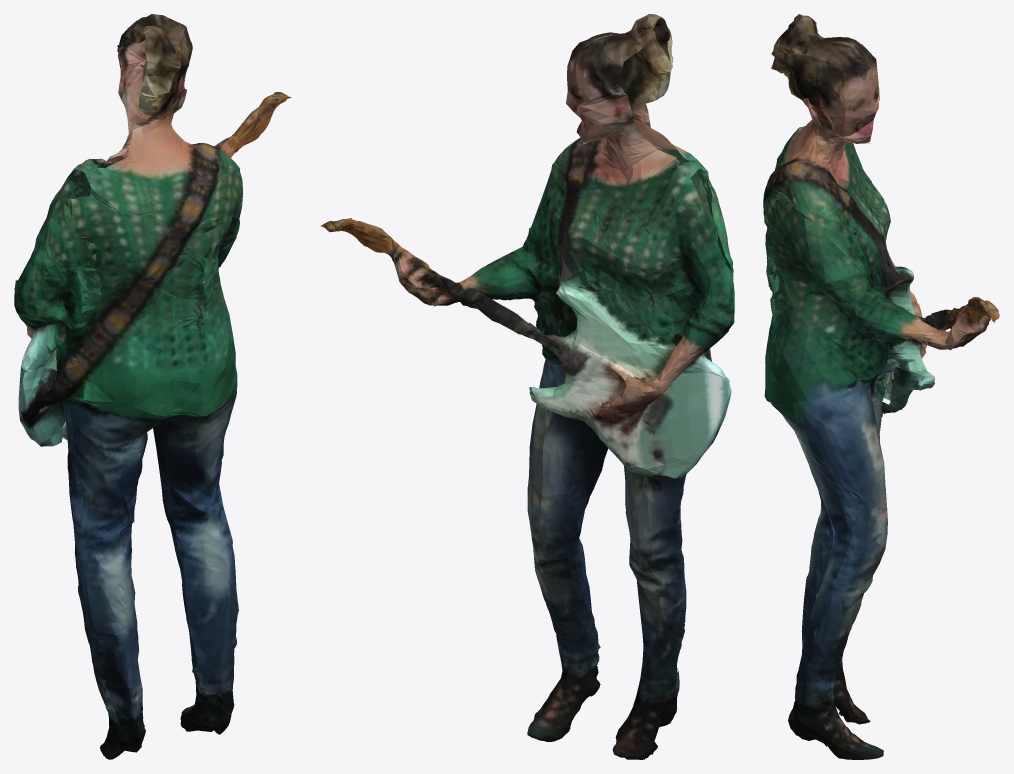
The picture shows the model from 3 angles, left to right: view 1: azimuth 30°, elevation 25°; view 2: azimuth 150°, elevation 25°; view 3: azimuth 270°, elevation 25°; orthographic projection. The views are drawn at different scales.
Visible parts, largest first — view 1: dec_0017; view 2: dec_0017; view 3: dec_0017.
Boxes of the visible parts, box(x1,y1,x2,y2) form: dec_0017: box(14, 14, 291, 759); dec_0017: box(320, 14, 734, 759); dec_0017: box(763, 14, 999, 759).
Bounding box in the file's own units: 0.8491 × 1.74 × 0.5228.
Materials: 1 (1 with a texture image).
